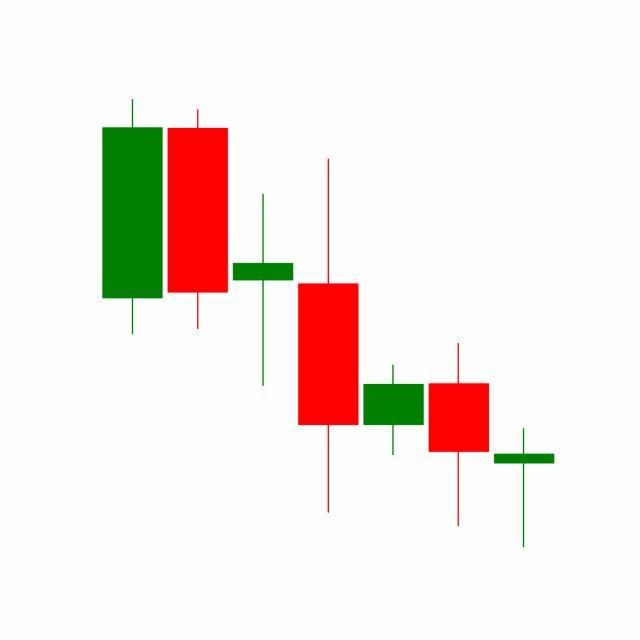Three Outside Up-Down: (360, 340, 556, 549)
